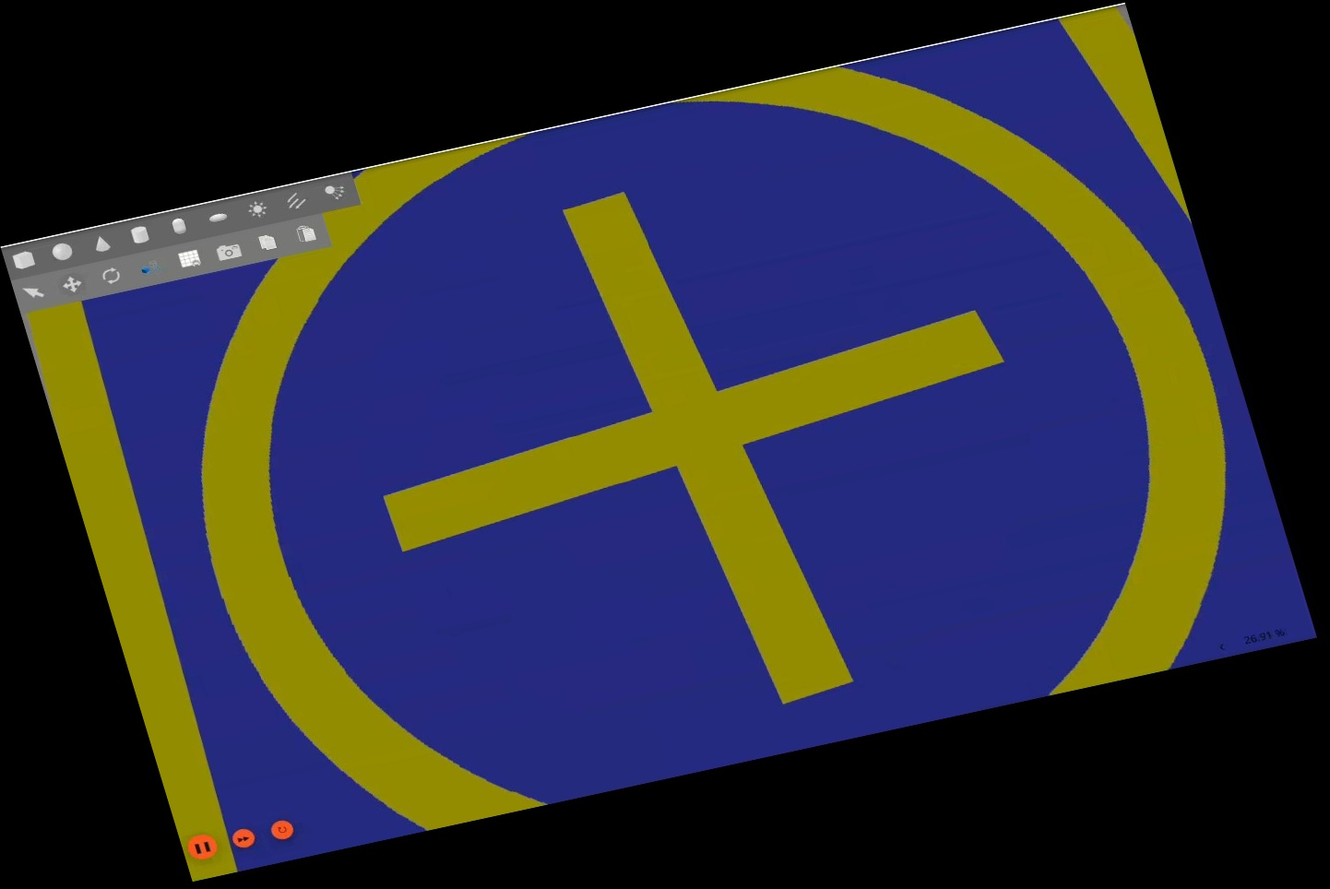small_base: (0, 3, 1317, 885)
